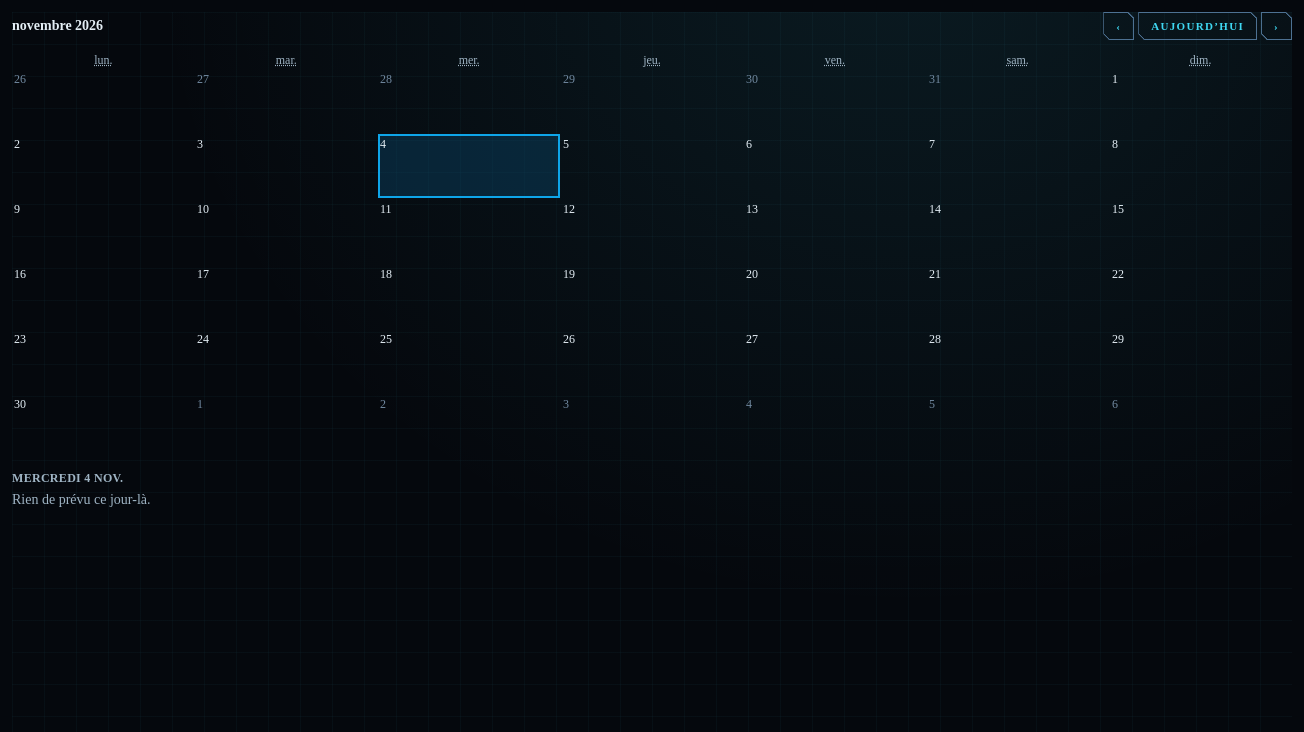
Test: AgendaMonth › « Aujourd’hui » revient au mois courant avec aujourd’hui sélectionné
Click the button named "Mois suivant".
click(1276, 26)  # box top-left (1261, 12), bottom-right (1292, 40)
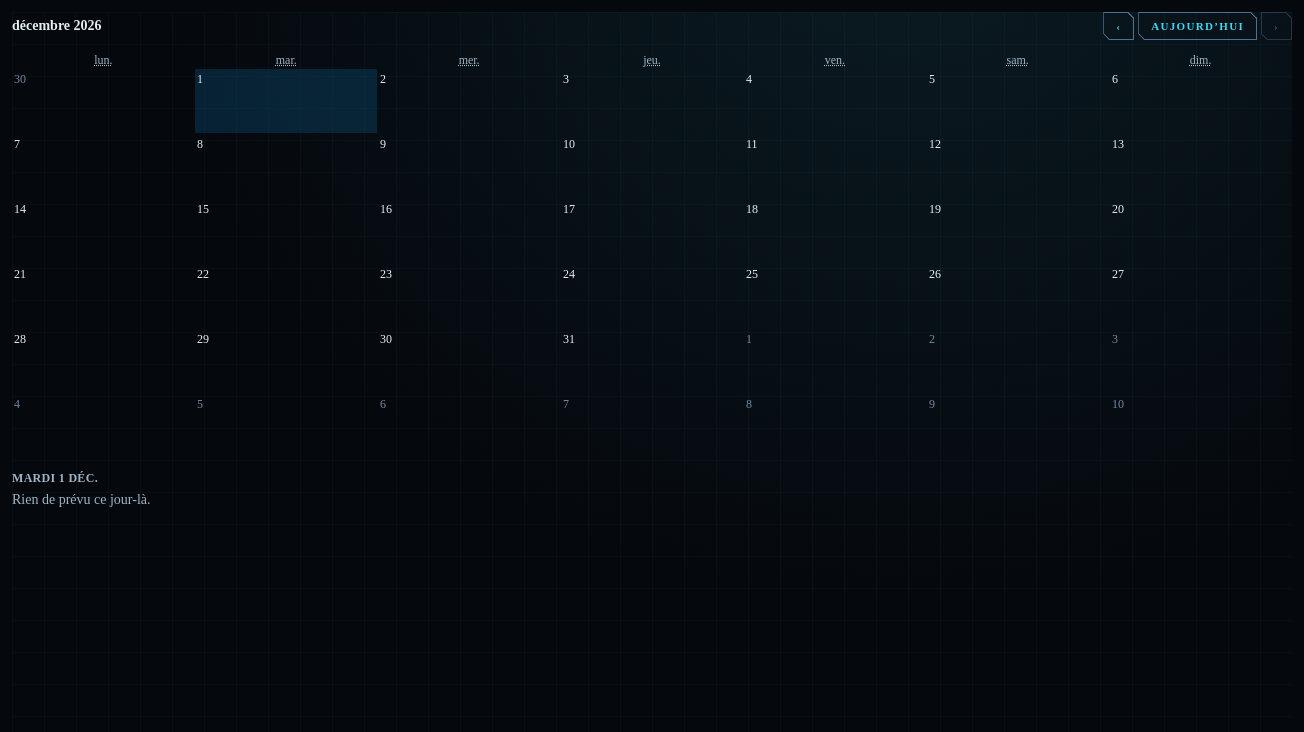
Now the heading "décembre 2026" is shown, box top-left (12, 18), bottom-right (102, 33)
Click the button "Aujourd’hui".
click(1198, 26)  # box top-left (1138, 12), bottom-right (1257, 40)
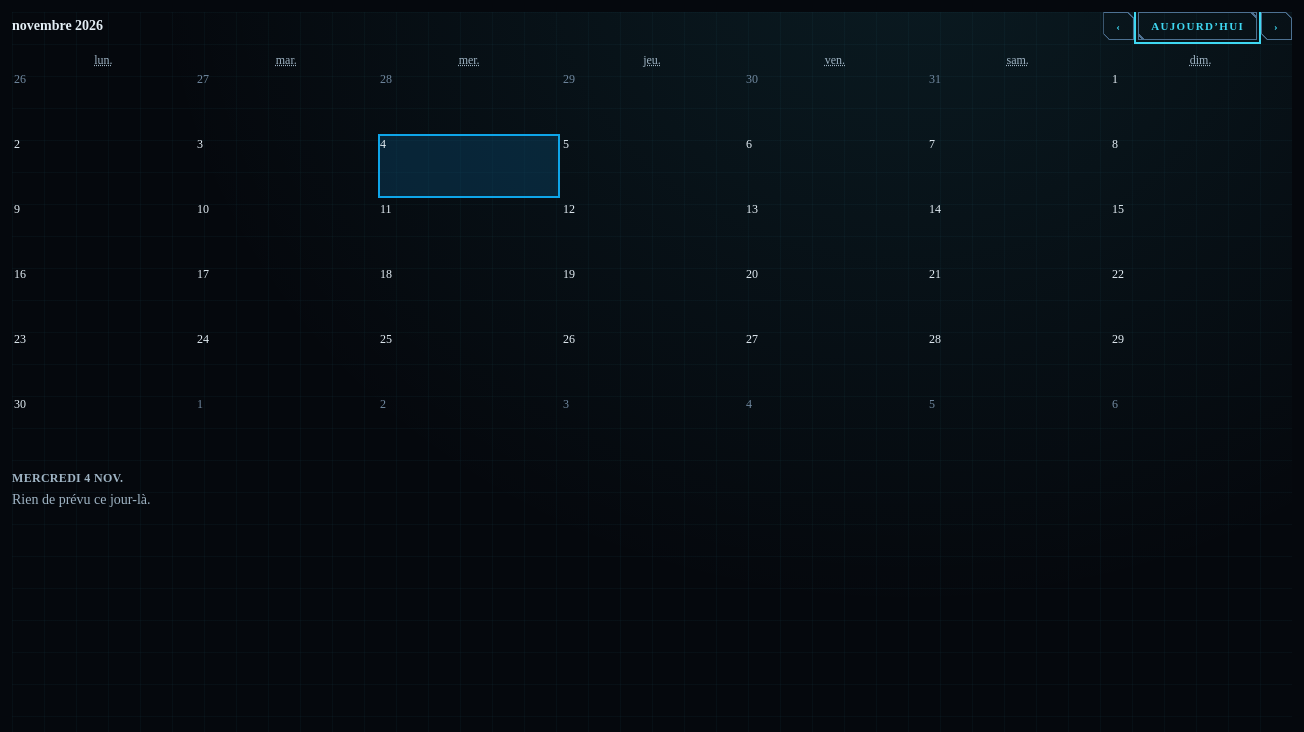
Now the heading "novembre 2026" is shown, box top-left (12, 18), bottom-right (103, 33)
